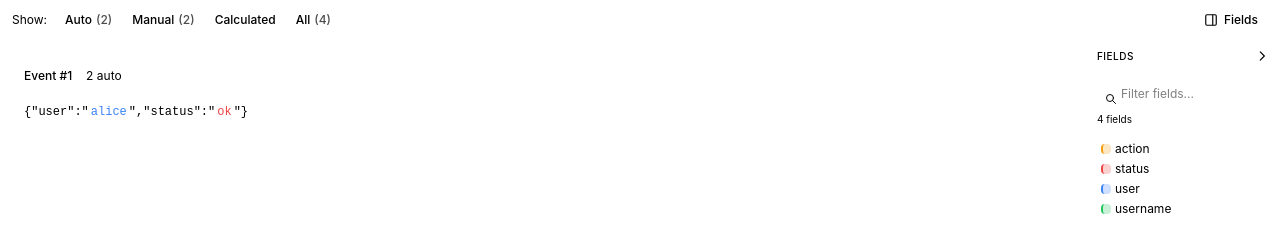
Test: HighlightedTab › pinning spans all events with correct global index and counter
Click the text "username".
click(1143, 209)  # box [1115,201,1171,217]
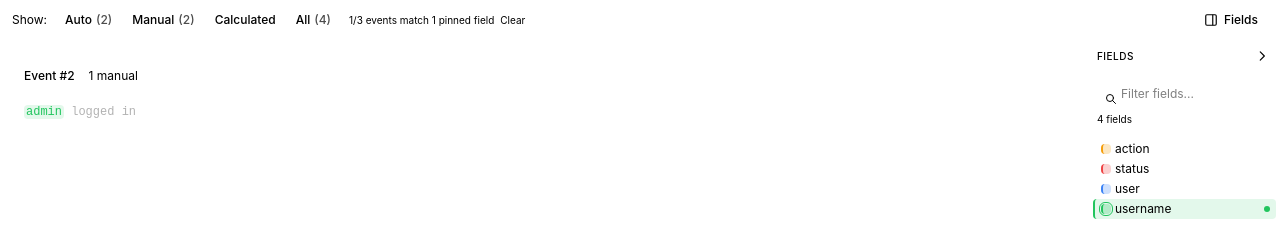
Check: the text "1/3 events match 1 pinned field Clear" is shown, box [349,12,525,28]
Check: the text "Event #2" is shown, box [24,68,74,84]
